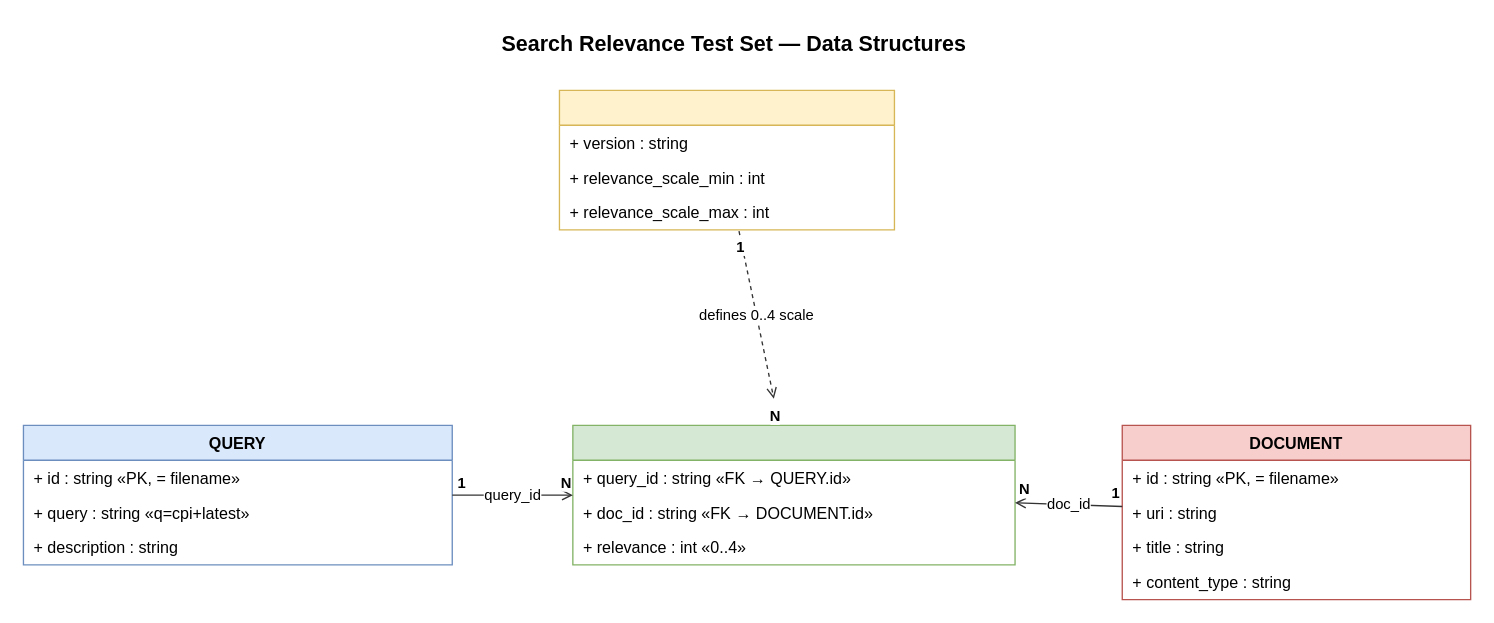
Image size: 1494x623. Some labels were removed from this diagram. The shapes that lost their labels are listed below. From the top down, each one's box as (x1, y1, x2, y2) in pixels, then its label:
(558, 89, 894, 230): MANIFEST
(572, 424, 1015, 565): JUDGMENT
